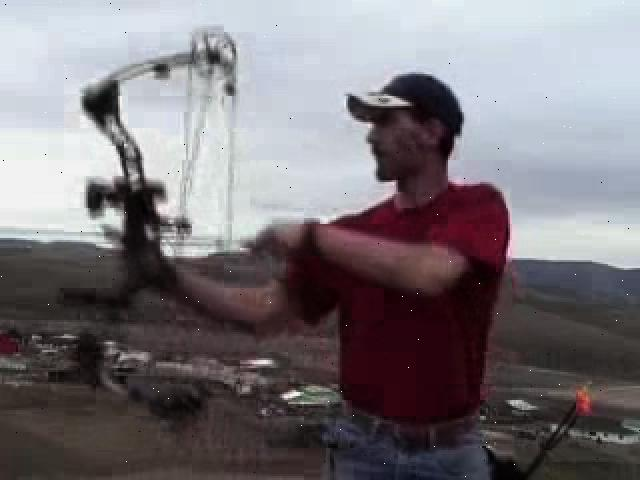P: (102, 62, 512, 444)
